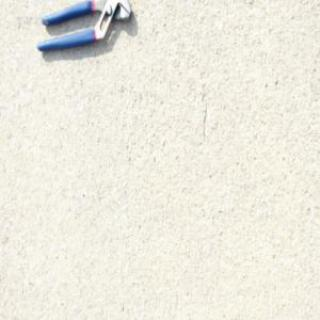Pliertrack_idkeyframe: (34, 0, 132, 52)
